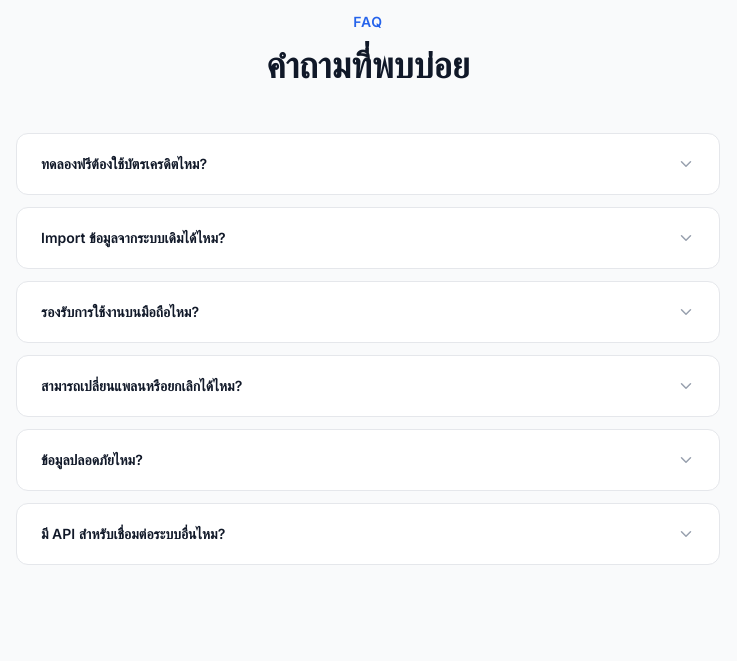
it: FAQ › expands answer when question is clicked
The image size is (737, 661).
Click the button "ทดลองฟรีต้องใช้บัตรเครดิตไหม?".
click(124, 164)  # box top-left (17, 134), bottom-right (719, 194)
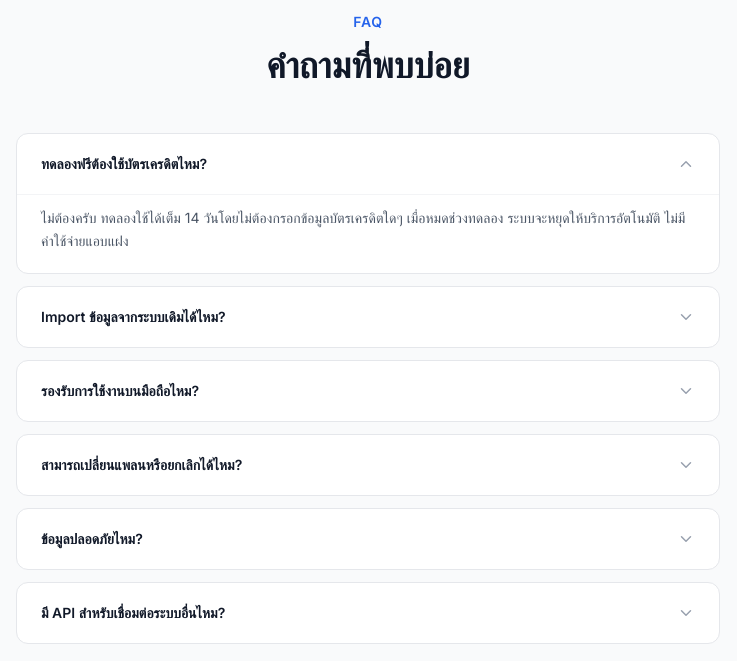
Now the text "ไม่ต้องครับ ทดลองใช้ได้เต็ม 14 วัน" is shown, box top-left (41, 209), bottom-right (685, 249)
